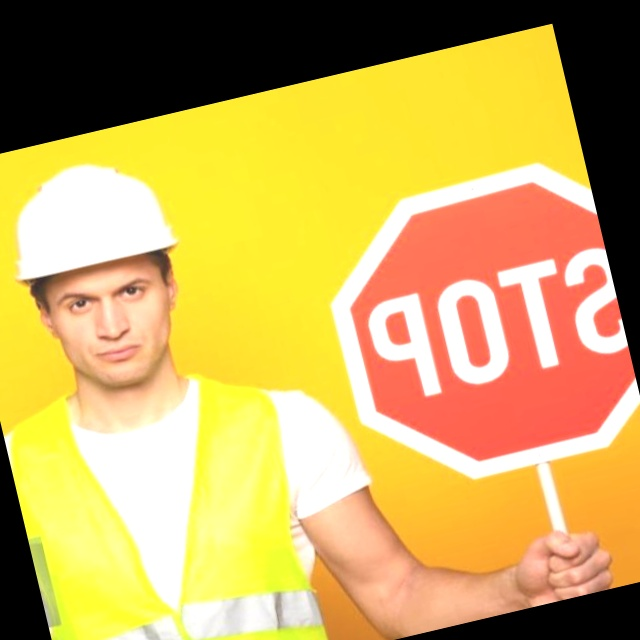Con_Casco: (0, 146, 204, 405)
Con_Chaleco: (0, 338, 346, 640)
